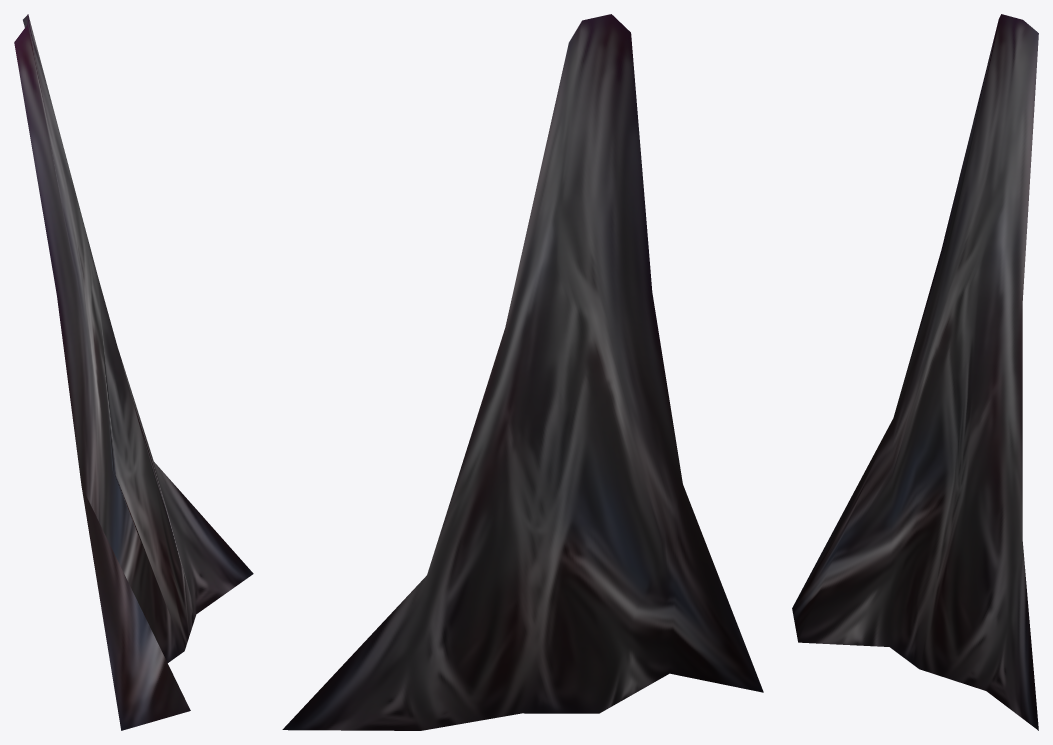
Rendered from Vampire_Village_Props_06.FBX.
3 renders of one model, left to right at view 1: azimuth 30°, elevation 25°; view 2: azimuth 150°, elevation 25°; view 3: azimuth 270°, elevation 25°, orthographic. The views are drawn at different scales.
Visible parts, largest first — view 1: Vampire_Village_Props_06; view 2: Vampire_Village_Props_06; view 3: Vampire_Village_Props_06.
Part boxes in pixels (x1,y1,x2,y2): Vampire_Village_Props_06: (14,14,253,730); Vampire_Village_Props_06: (282,14,763,730); Vampire_Village_Props_06: (792,14,1038,730).
Size of the model in its own units: 134 by 306 by 114.
